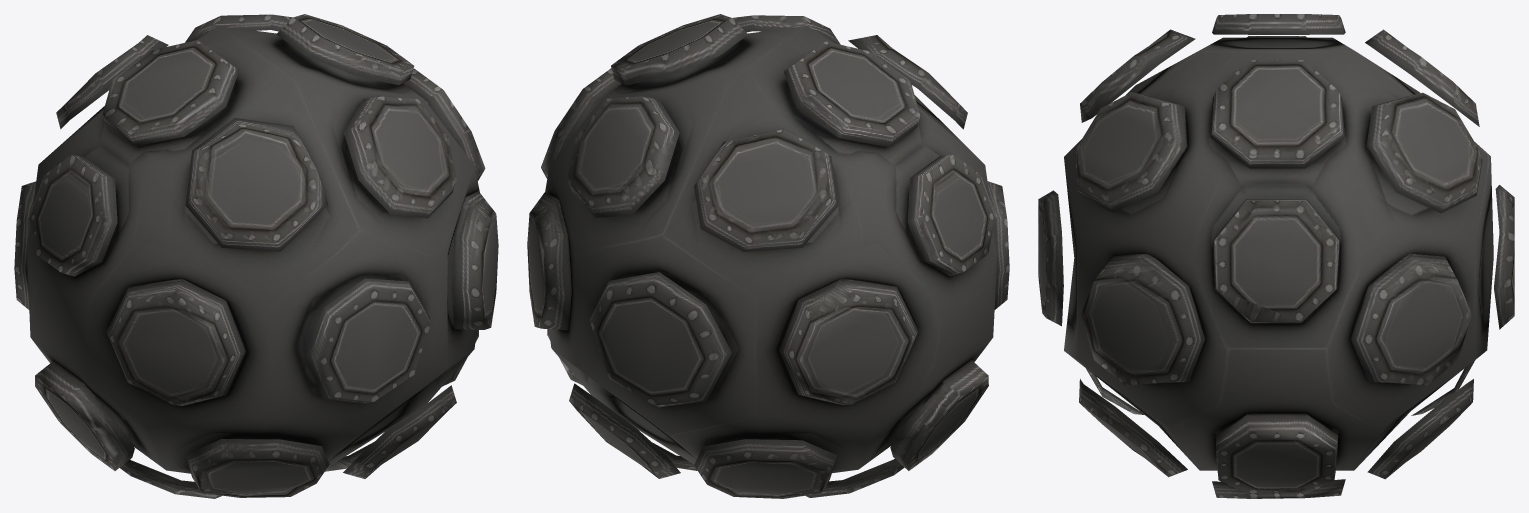
The model's file is cold-iron-v2-hub-a-sphere.glb.
The picture shows the model from 3 angles, left to right: view 1: azimuth 30°, elevation 25°; view 2: azimuth 150°, elevation 25°; view 3: azimuth 270°, elevation 25°; orthographic projection.
Visible parts, largest first — view 1: tripo_node_b60ae4bf-78b5-4112-949c-96810dd8a87e; view 2: tripo_node_b60ae4bf-78b5-4112-949c-96810dd8a87e; view 3: tripo_node_b60ae4bf-78b5-4112-949c-96810dd8a87e.
Part boxes in pixels (x1,y1,x2,y2): tripo_node_b60ae4bf-78b5-4112-949c-96810dd8a87e: (14,14,498,498); tripo_node_b60ae4bf-78b5-4112-949c-96810dd8a87e: (527,14,1009,498); tripo_node_b60ae4bf-78b5-4112-949c-96810dd8a87e: (1038,14,1514,498).
Size of the model in its own units: 0.998 by 0.9941 by 0.9863.
1 material, 1 textured.
